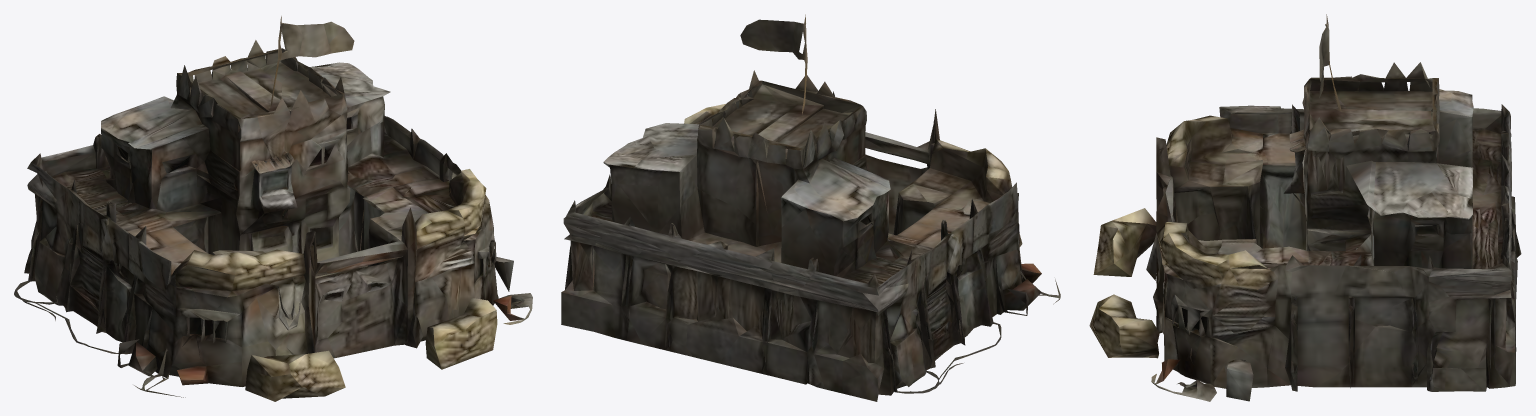
File: base_cla.glb
3 renders of one model, left to right at view 1: azimuth 30°, elevation 25°; view 2: azimuth 150°, elevation 25°; view 3: azimuth 270°, elevation 25°, orthographic. The views are drawn at different scales.
Visible parts, largest first — view 1: base_cla; view 2: base_cla; view 3: base_cla.
Part boxes in pixels (x1,y1,x2,y2): base_cla: (14,16,532,401); base_cla: (561,14,1060,401); base_cla: (1089,14,1521,401).
Size of the model in its own units: 15.82 by 11.06 by 14.66.
1 material, 1 textured.
